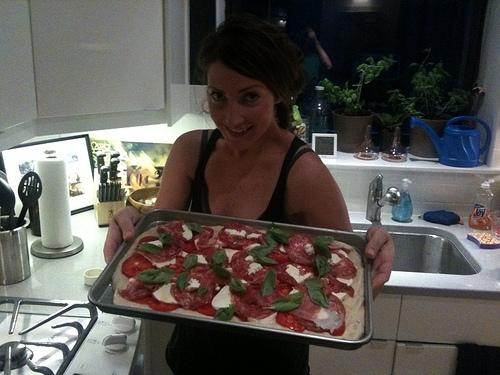tomato: (288, 293, 346, 336), (266, 234, 316, 274), (122, 253, 152, 278), (275, 312, 307, 332), (165, 256, 185, 283), (149, 296, 182, 312), (194, 303, 218, 316), (274, 282, 293, 296), (182, 240, 198, 253)
